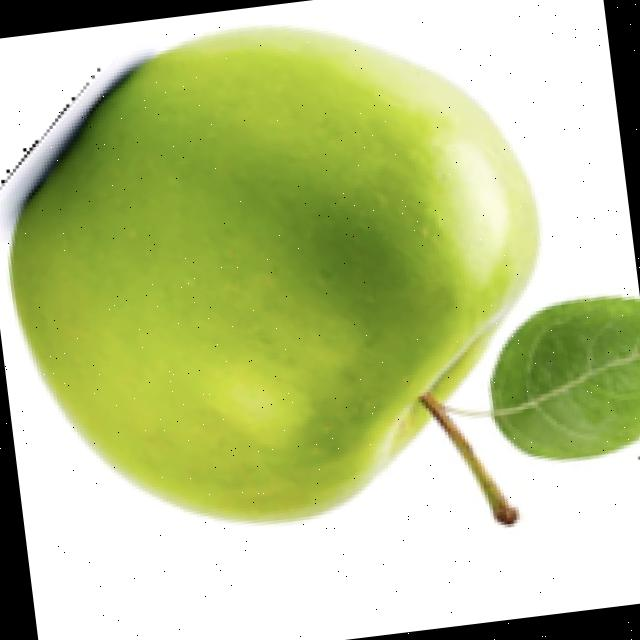apple: (0, 22, 640, 529)
